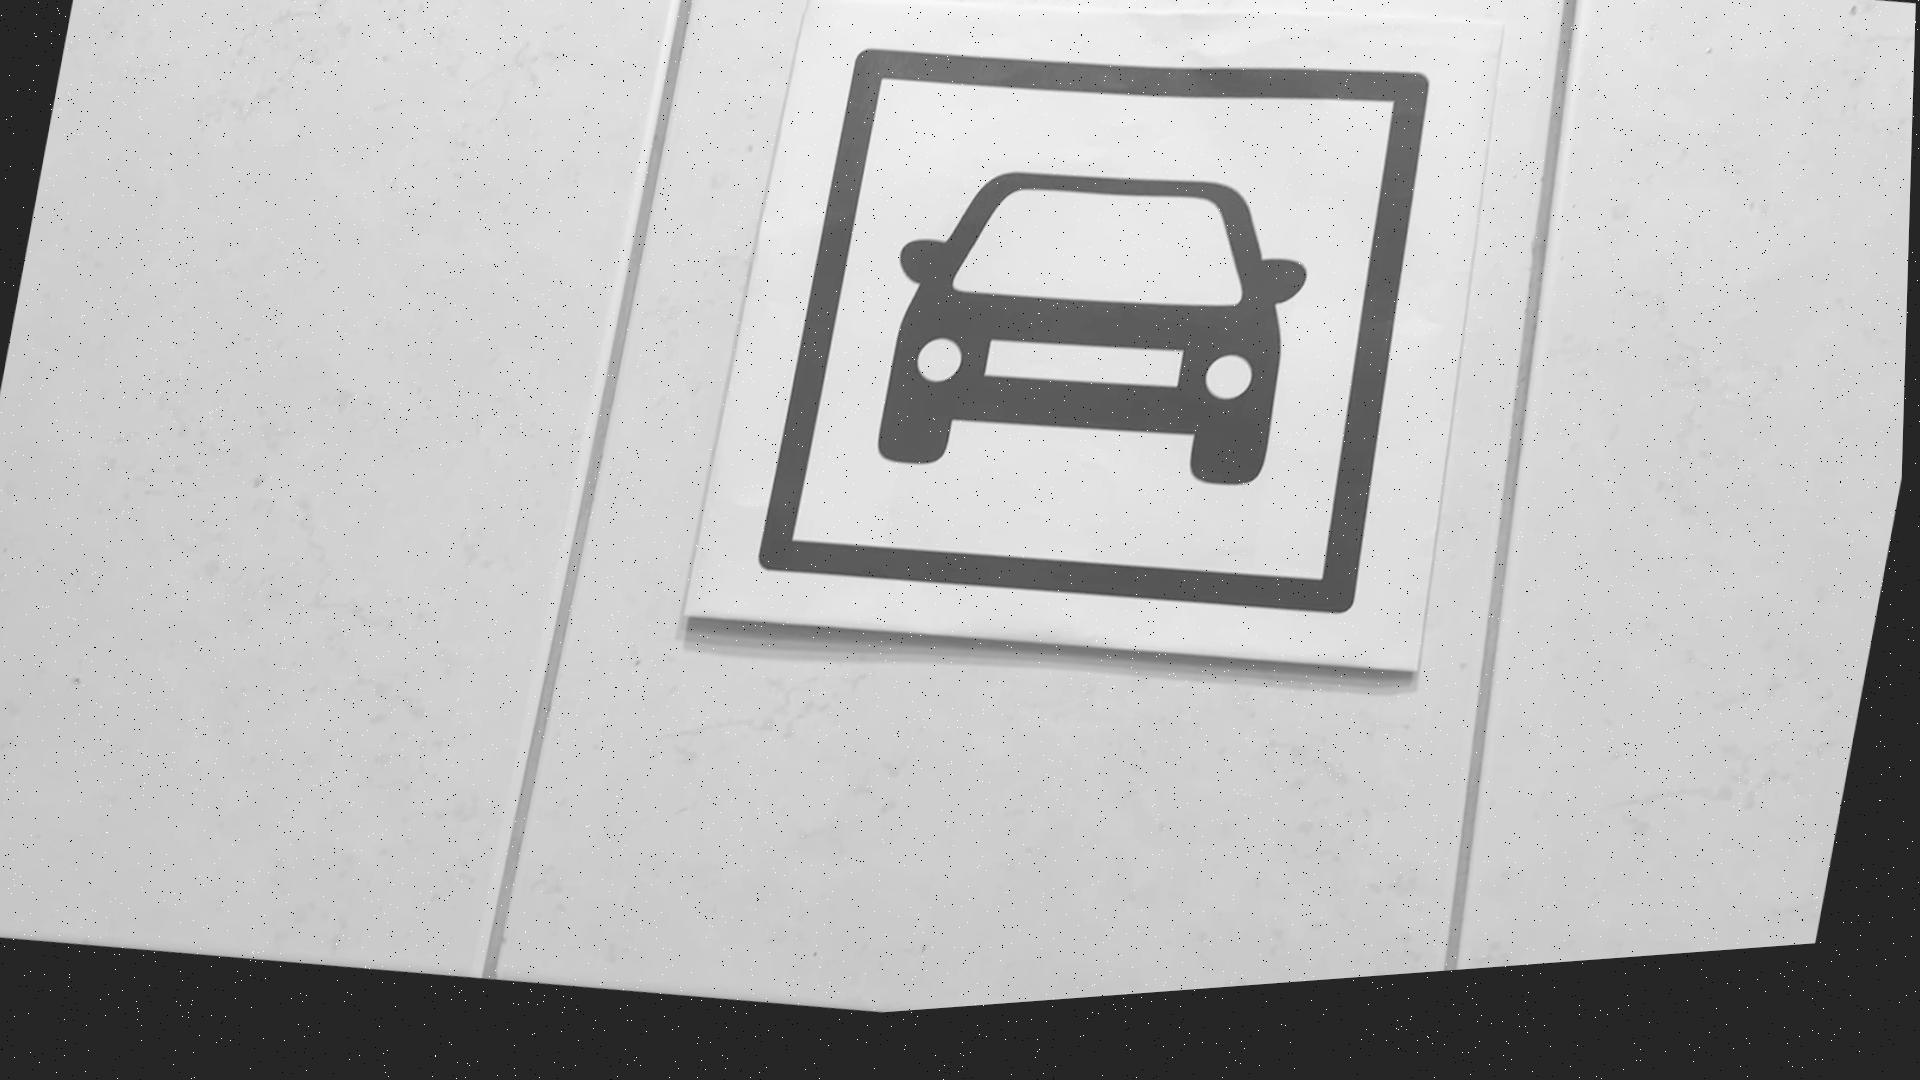car_img: (749, 0, 1465, 684)
